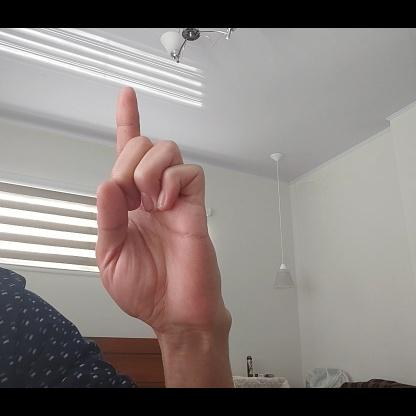D: (91, 85, 229, 331)
